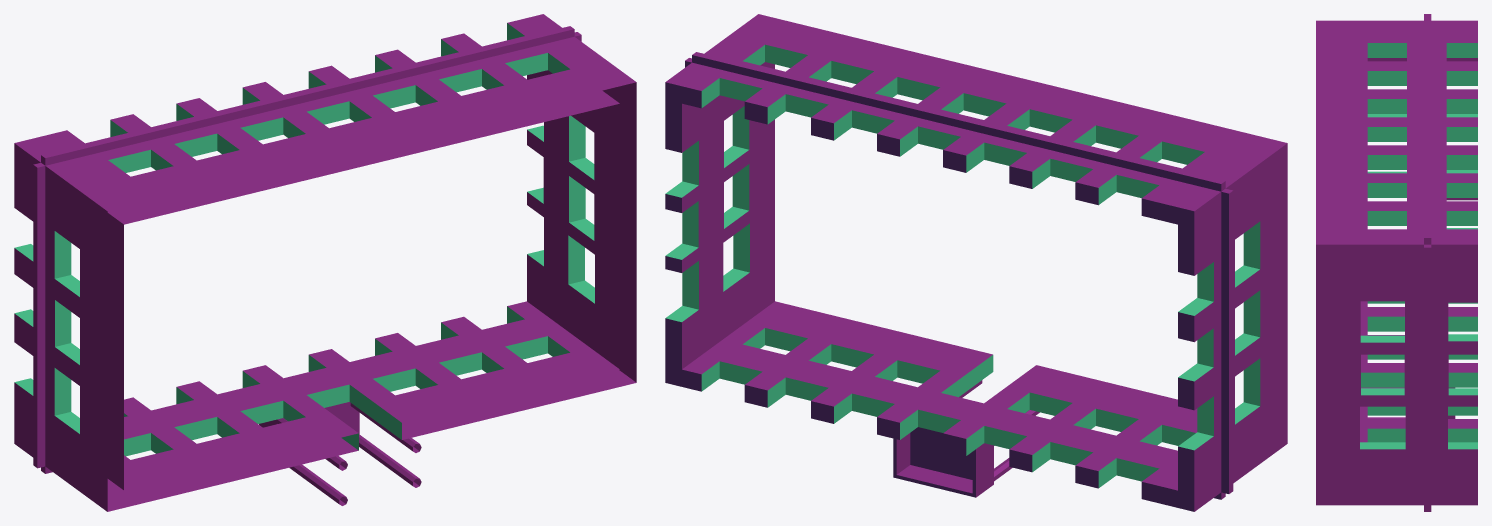
Rendered from Laża masońska Tier 2.fbx.
The picture shows the model from 3 angles, left to right: view 1: azimuth 30°, elevation 25°; view 2: azimuth 150°, elevation 25°; view 3: azimuth 270°, elevation 25°; orthographic projection. The views are drawn at different scales.
Parts seen in each view (by area): view 1: Loza Masonskav2; view 2: Loza Masonskav2; view 3: Loza Masonskav2.
Boxes of the visible parts, <box> form: Loza Masonskav2: <box>14,14,636,511</box>; Loza Masonskav2: <box>665,14,1287,511</box>; Loza Masonskav2: <box>1316,14,1477,511</box>.
Bounding box in the file's own units: 3.98 × 2.52 × 1.18.
